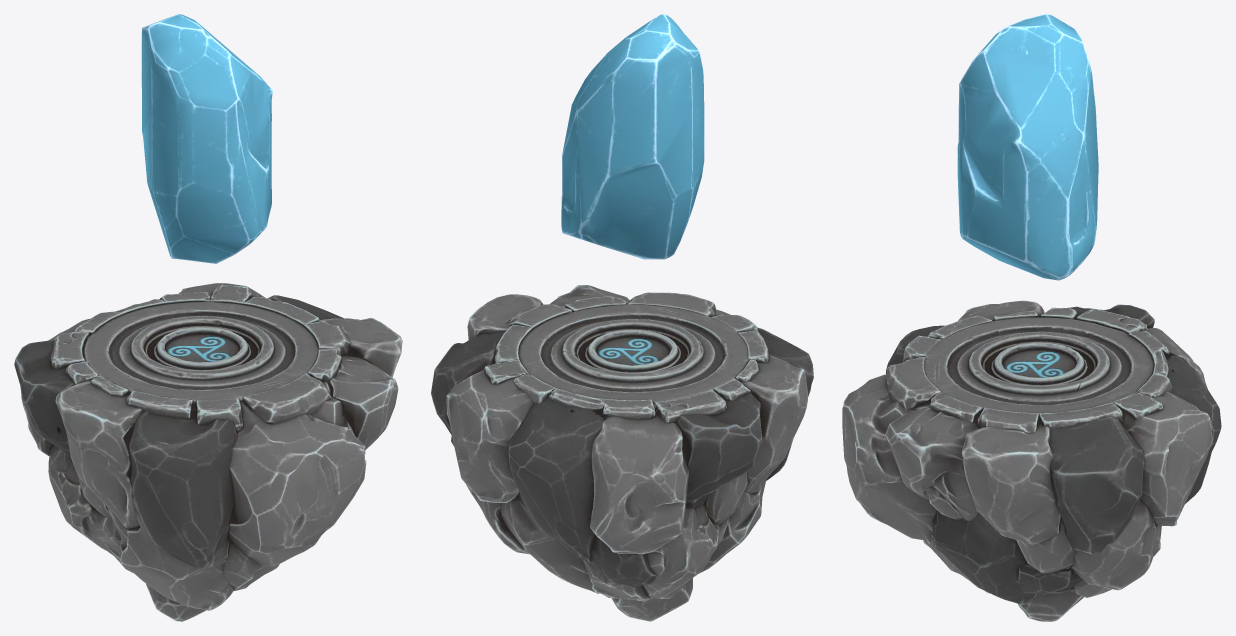
The model's file is fantasy_rock-transformed.glb.
3 renders of one model, left to right at view 1: azimuth 30°, elevation 25°; view 2: azimuth 150°, elevation 25°; view 3: azimuth 270°, elevation 25°, orthographic.
Parts seen in each view (by area): view 1: rocks_03:Group10022_0_Material #25_0, Object001_Material #26_0; view 2: rocks_03:Group10022_0_Material #25_0, Object001_Material #26_0; view 3: rocks_03:Group10022_0_Material #25_0, Object001_Material #26_0.
Boxes of the visible parts, bbox=[...] form: rocks_03:Group10022_0_Material #25_0: bbox=[14, 283, 402, 621]; Object001_Material #26_0: bbox=[141, 14, 272, 263]; rocks_03:Group10022_0_Material #25_0: bbox=[431, 285, 813, 621]; Object001_Material #26_0: bbox=[561, 14, 704, 259]; rocks_03:Group10022_0_Material #25_0: bbox=[842, 300, 1221, 621]; Object001_Material #26_0: bbox=[957, 14, 1098, 280].
Size of the model in its own units: 31.2 by 54.39 by 31.38.
2 materials, 2 textured.
